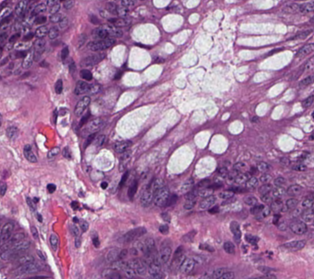nucleus: (1, 240, 29, 259), (1, 231, 24, 251), (138, 237, 157, 259), (12, 261, 40, 275), (122, 227, 146, 242), (87, 37, 114, 50), (153, 186, 169, 206), (0, 221, 14, 243), (74, 96, 89, 116), (80, 54, 104, 66), (183, 189, 197, 209), (129, 258, 146, 274), (140, 187, 153, 207), (158, 242, 170, 263), (33, 38, 44, 60), (13, 253, 33, 265), (86, 118, 103, 132), (198, 195, 215, 209), (180, 258, 195, 273), (270, 198, 286, 212), (114, 140, 131, 153), (23, 145, 36, 162), (149, 178, 163, 193), (179, 178, 193, 193), (105, 248, 119, 263), (230, 221, 240, 241), (74, 81, 89, 94), (234, 172, 249, 185), (92, 27, 108, 39), (269, 186, 285, 198), (102, 268, 121, 278), (210, 268, 227, 278), (256, 206, 270, 218), (22, 52, 33, 67), (245, 176, 258, 188), (259, 183, 272, 195), (128, 181, 137, 198), (49, 233, 58, 250), (6, 126, 17, 139), (257, 161, 270, 172), (198, 187, 212, 197), (119, 171, 128, 186), (80, 69, 92, 80), (88, 83, 100, 94), (47, 147, 59, 158), (223, 241, 234, 253), (233, 162, 246, 172), (244, 196, 257, 206), (182, 231, 195, 241), (77, 34, 86, 48), (85, 133, 94, 147), (219, 190, 233, 199), (173, 246, 182, 260), (95, 134, 105, 146), (259, 172, 271, 182), (251, 204, 263, 214), (257, 266, 274, 273), (80, 112, 89, 125), (26, 197, 34, 211), (48, 27, 58, 38), (119, 150, 130, 160), (261, 193, 273, 202), (245, 234, 257, 243), (220, 270, 233, 278), (9, 32, 19, 42), (218, 167, 228, 177), (166, 194, 176, 204), (274, 176, 285, 185), (79, 220, 88, 231), (70, 225, 79, 236), (55, 79, 62, 93), (198, 179, 210, 187), (30, 226, 37, 239), (200, 244, 213, 251), (267, 48, 282, 54), (258, 273, 275, 278), (61, 47, 68, 59), (15, 50, 27, 57), (159, 224, 168, 233), (69, 61, 75, 74), (0, 182, 6, 195), (63, 147, 70, 158), (92, 236, 99, 247), (161, 213, 170, 221), (37, 250, 45, 259), (23, 33, 33, 40), (273, 213, 279, 224), (74, 236, 80, 247), (47, 184, 55, 192), (277, 222, 285, 230), (209, 206, 218, 213), (119, 249, 126, 258), (71, 201, 78, 208), (59, 109, 66, 115), (53, 110, 56, 122), (101, 182, 107, 188), (37, 213, 41, 221), (1, 58, 6, 64), (251, 117, 258, 121), (73, 217, 78, 221), (33, 198, 37, 202)
